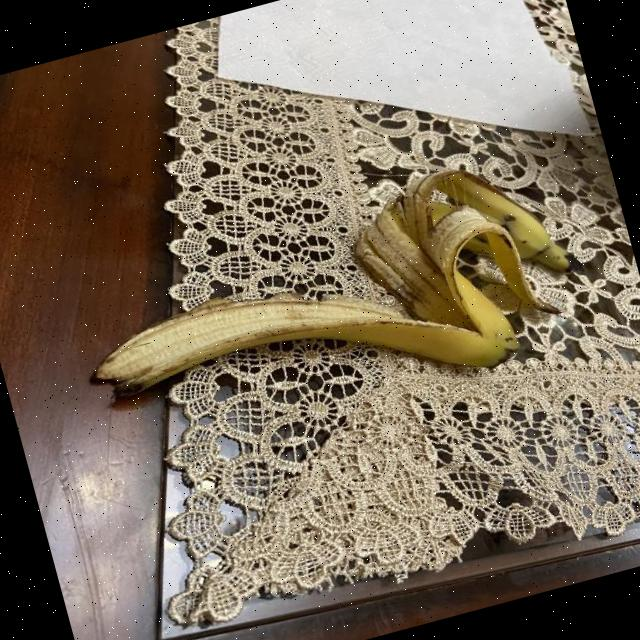banana-peel: (61, 138, 592, 468)
